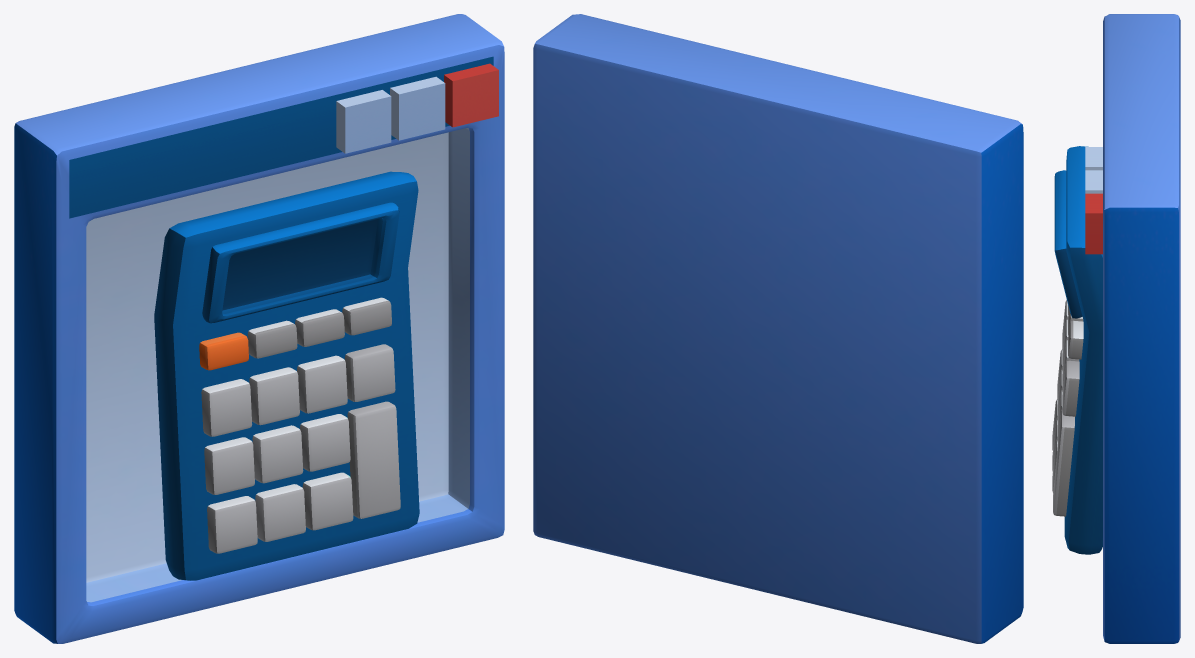
Rendered from Calculator.fbx.
3 renders of one model, left to right at view 1: azimuth 30°, elevation 25°; view 2: azimuth 150°, elevation 25°; view 3: azimuth 270°, elevation 25°, orthographic. The views are drawn at different scales.
Visible parts, largest first — view 1: Calculator; view 2: Calculator; view 3: Calculator.
Part boxes in pixels (<box>): Calculator: <box>14,14,504,643</box>; Calculator: <box>533,14,1023,643</box>; Calculator: <box>1052,14,1180,643</box>.
Size of the model in its own units: 37.28 by 39.09 by 10.33.
